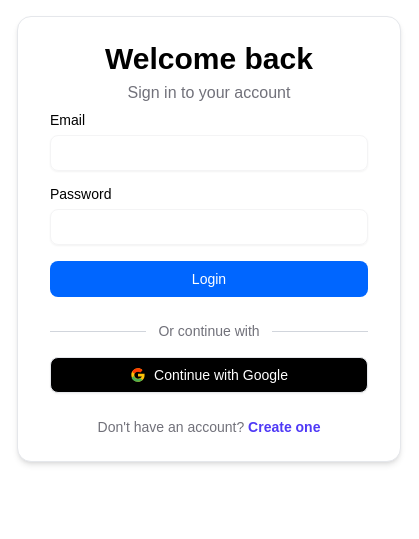
Test: LoginForm › Form Validation › shows inline error when email is empty
Click the button "Login": (209,279) [50,261,368,297]
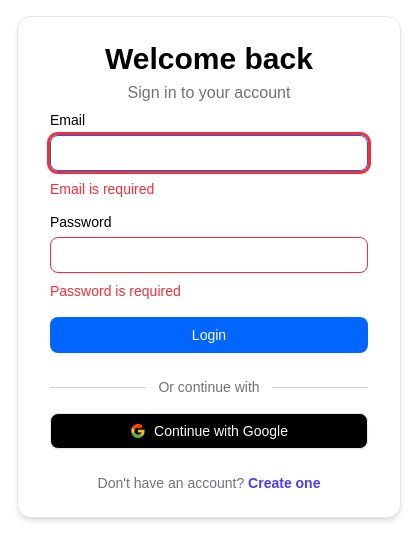
Expected: the text "Email is required" is shown, [50,181,154,197]
